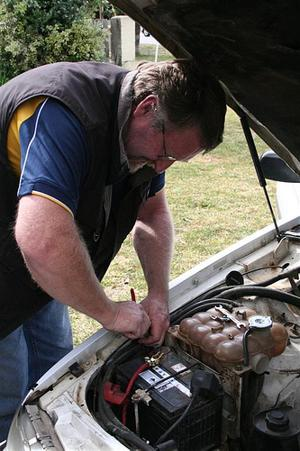person: (2, 54, 229, 446)
